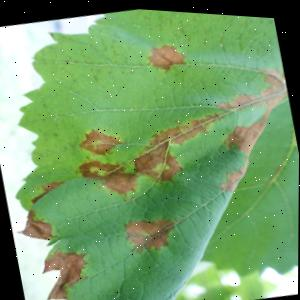Folha: (0, 0, 300, 300), (158, 83, 300, 293)
Fungo: (69, 100, 235, 209), (209, 100, 267, 186), (220, 62, 291, 117), (36, 241, 97, 300), (76, 151, 141, 201), (121, 209, 180, 257), (129, 138, 184, 186), (75, 121, 124, 160), (14, 205, 56, 245), (143, 38, 187, 74), (76, 153, 127, 183), (98, 167, 141, 198), (130, 145, 169, 175), (28, 177, 69, 205), (278, 53, 286, 82), (271, 158, 285, 171)
